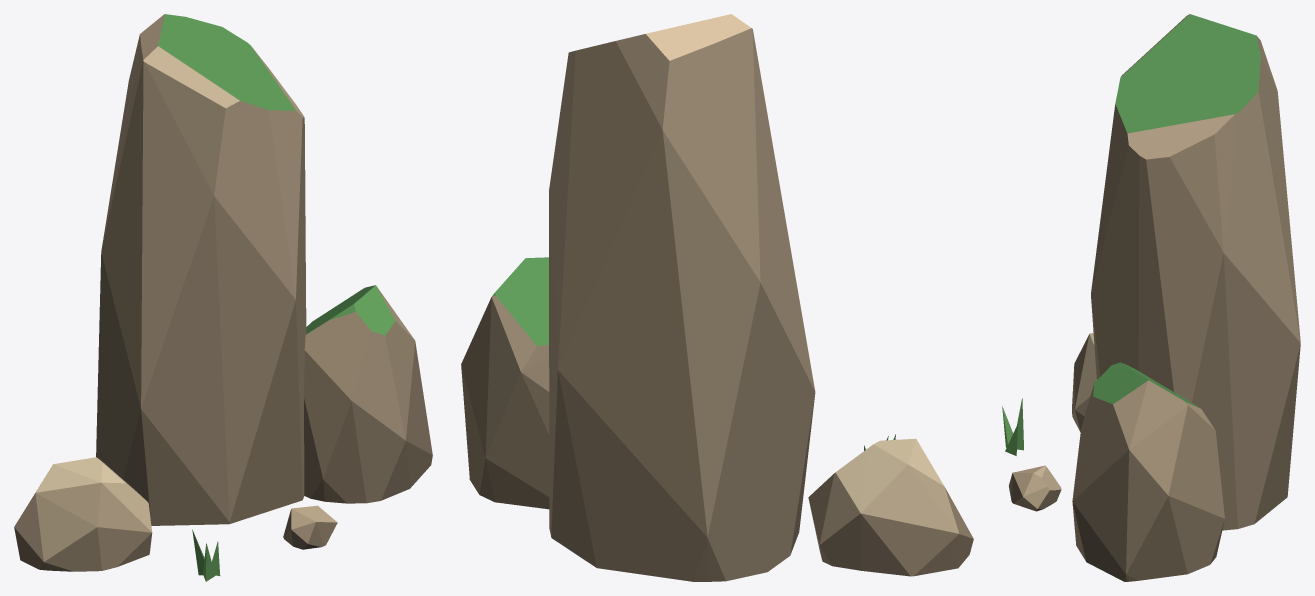
Rendered from ranch_border_rock_spire.fbx.
The picture shows the model from 3 angles, left to right: view 1: azimuth 30°, elevation 25°; view 2: azimuth 150°, elevation 25°; view 3: azimuth 270°, elevation 25°; orthographic projection. The views are drawn at different scales.
Parts seen in each view (by area): view 1: ranch_border_rock_spire; view 2: ranch_border_rock_spire; view 3: ranch_border_rock_spire.
Boxes of the visible parts, x1,y1,x2,y2 form: ranch_border_rock_spire: [14, 14, 432, 581]; ranch_border_rock_spire: [461, 14, 973, 581]; ranch_border_rock_spire: [1002, 14, 1300, 581].
Bounding box in the file's own units: 9.91 × 10.52 × 6.25.
